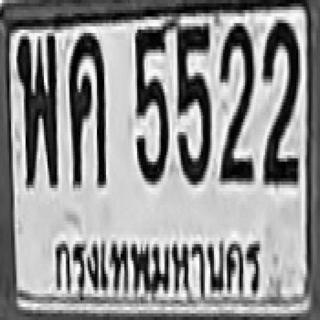A04: (68, 31, 105, 183)
A30: (16, 31, 57, 186)
N02: (262, 18, 299, 183), (219, 20, 253, 181)
N05: (176, 21, 208, 180), (134, 25, 166, 180)
P04: (45, 226, 266, 310)
